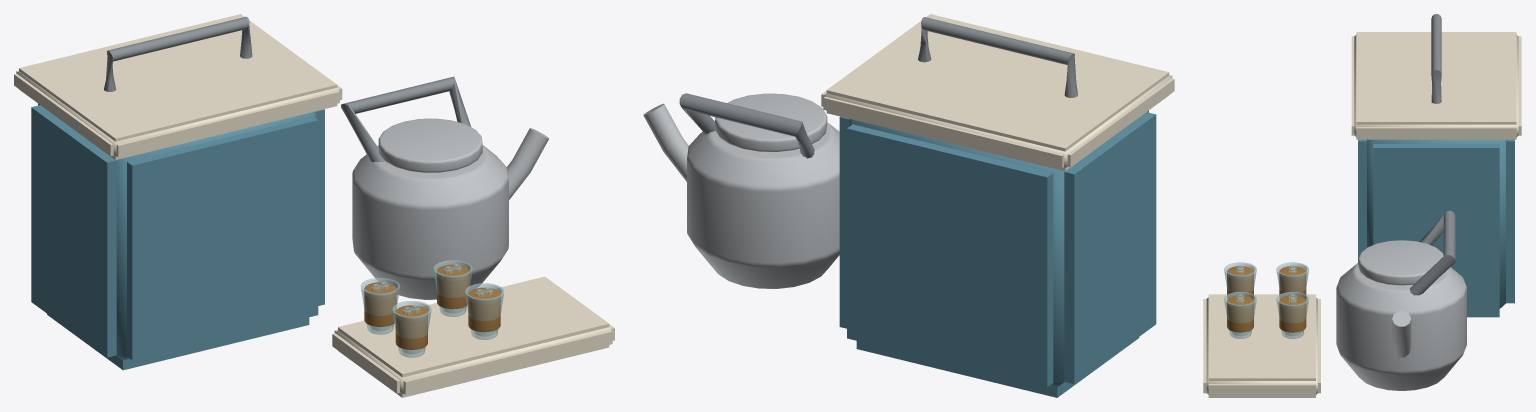
The model's file is TeaServiceSet.glb.
3 renders of one model, left to right at view 1: azimuth 30°, elevation 25°; view 2: azimuth 150°, elevation 25°; view 3: azimuth 270°, elevation 25°, orthographic. The views are drawn at different scales.
Visible parts, largest first — view 1: ST_Ice_Cooler.001, ST_TeaServiceSet_ST_cream.001, ST_TeaServiceSet_ST_steel.001, ST_TeaServiceSet_ST_broth.001, ST_TeaServiceSet_PBK_Indochine_glass.001, ST_TeaServiceSet_PBK_Indochine_metal.001; view 2: ST_Ice_Cooler.001, ST_TeaServiceSet_ST_cream.001, ST_TeaServiceSet_ST_steel.001, ST_TeaServiceSet_PBK_Indochine_metal.001; view 3: ST_TeaServiceSet_ST_cream.001, ST_Ice_Cooler.001, ST_TeaServiceSet_ST_steel.001, ST_TeaServiceSet_ST_broth.001, ST_TeaServiceSet_PBK_Indochine_glass.001, ST_TeaServiceSet_PBK_Indochine_metal.001.
Boxes of the visible parts, bbox=[...] form: ST_Ice_Cooler.001: bbox=[31, 103, 324, 370]; ST_TeaServiceSet_ST_cream.001: bbox=[14, 14, 614, 397]; ST_TeaServiceSet_ST_steel.001: bbox=[352, 118, 549, 299]; ST_TeaServiceSet_ST_broth.001: bbox=[364, 264, 500, 349]; ST_TeaServiceSet_PBK_Indochine_glass.001: bbox=[361, 260, 504, 357]; ST_TeaServiceSet_PBK_Indochine_metal.001: bbox=[104, 16, 470, 162]; ST_Ice_Cooler.001: bbox=[839, 110, 1156, 397]; ST_TeaServiceSet_ST_cream.001: bbox=[821, 14, 1174, 171]; ST_TeaServiceSet_ST_steel.001: bbox=[643, 93, 839, 288]; ST_TeaServiceSet_PBK_Indochine_metal.001: bbox=[679, 17, 1077, 158]; ST_TeaServiceSet_ST_cream.001: bbox=[1203, 32, 1521, 397]; ST_Ice_Cooler.001: bbox=[1358, 139, 1514, 317]; ST_TeaServiceSet_ST_steel.001: bbox=[1336, 240, 1466, 390]; ST_TeaServiceSet_ST_broth.001: bbox=[1227, 266, 1306, 332]; ST_TeaServiceSet_PBK_Indochine_glass.001: bbox=[1224, 262, 1309, 338]; ST_TeaServiceSet_PBK_Indochine_metal.001: bbox=[1410, 14, 1455, 295].
Size of the model in its own units: 1.02 by 0.6011 by 0.73.
